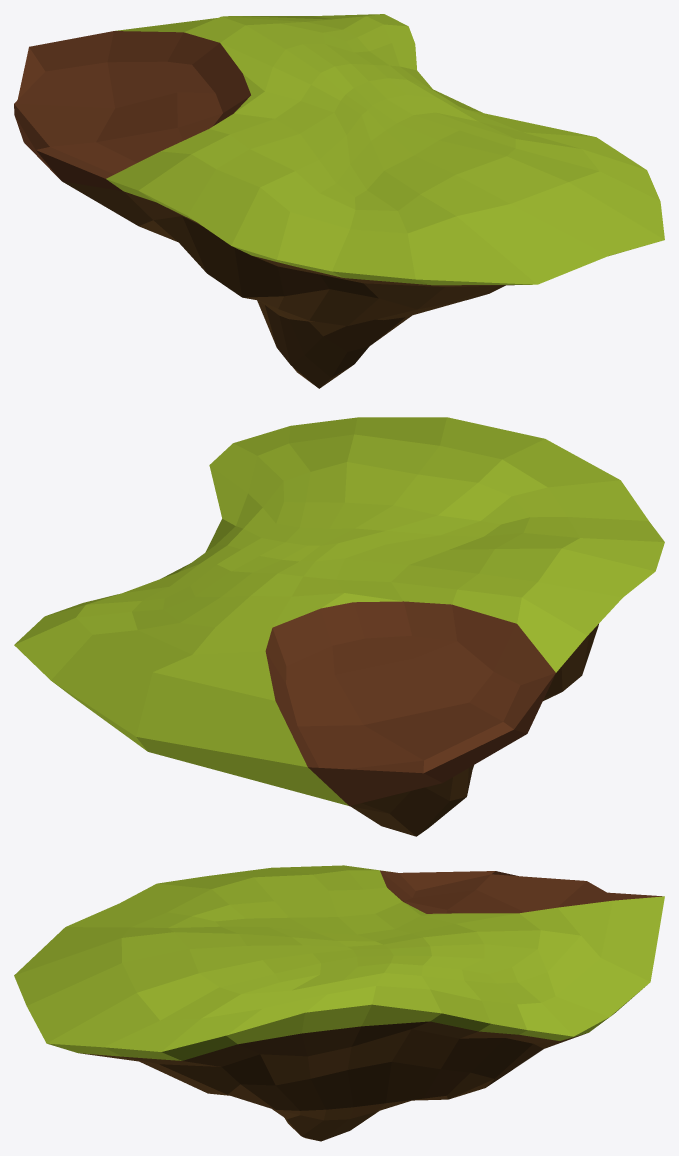
Rendered from Island_waterhole.FBX.
The picture shows the model from 3 angles, top to bottom: view 1: azimuth 30°, elevation 25°; view 2: azimuth 150°, elevation 25°; view 3: azimuth 270°, elevation 25°; orthographic projection. The views are drawn at different scales.
Parts seen in each view (by area): view 1: Island009; view 2: Island009; view 3: Island009.
Boxes of the visible parts, x1,y1,x2,y2 form: Island009: [14, 14, 664, 388]; Island009: [14, 417, 664, 836]; Island009: [14, 865, 664, 1141].
Bounding box in the file's own units: 446 × 255 × 646.
